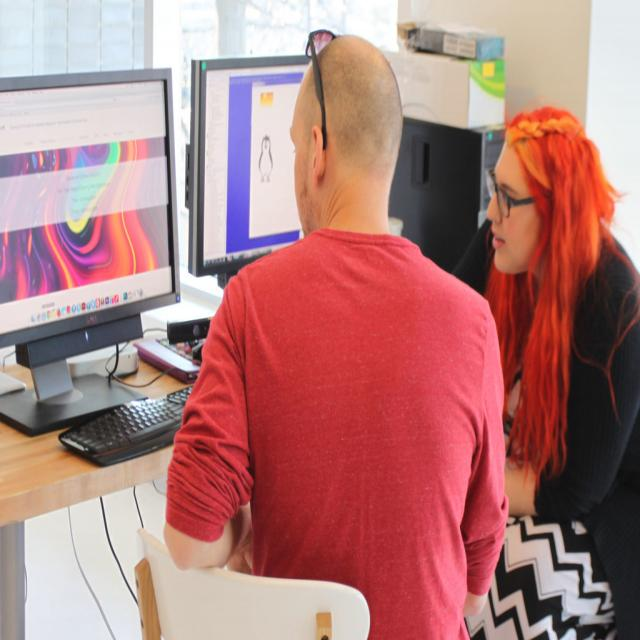chair: (135, 527, 370, 637)
desk: (0, 315, 197, 639)
keyboard: (59, 384, 193, 466)
person: (162, 28, 510, 634), (452, 103, 640, 637)
tv: (1, 66, 178, 368), (188, 54, 313, 280)
